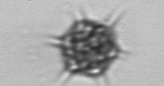plankton: (43, 5, 137, 86)
